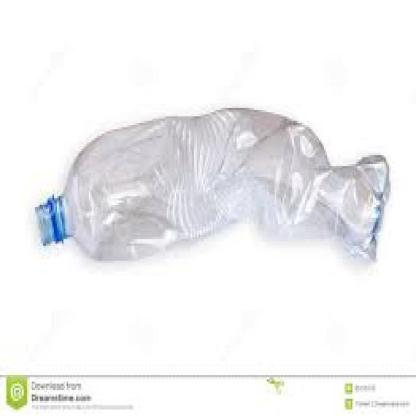Plastic Bottle: (34, 106, 390, 262)
